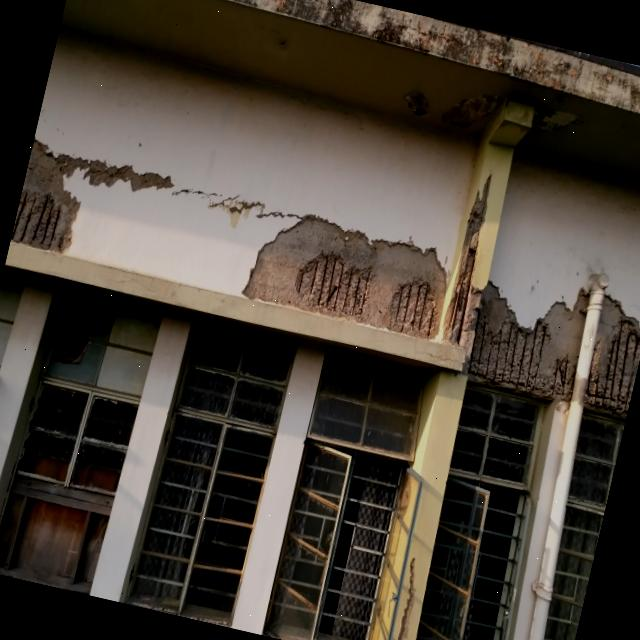spalling: (243, 215, 445, 339), (469, 282, 586, 398), (10, 139, 79, 251), (585, 298, 640, 416), (309, 254, 367, 317), (391, 281, 435, 336), (297, 263, 311, 293)
stain_mould: (227, 0, 640, 113)
